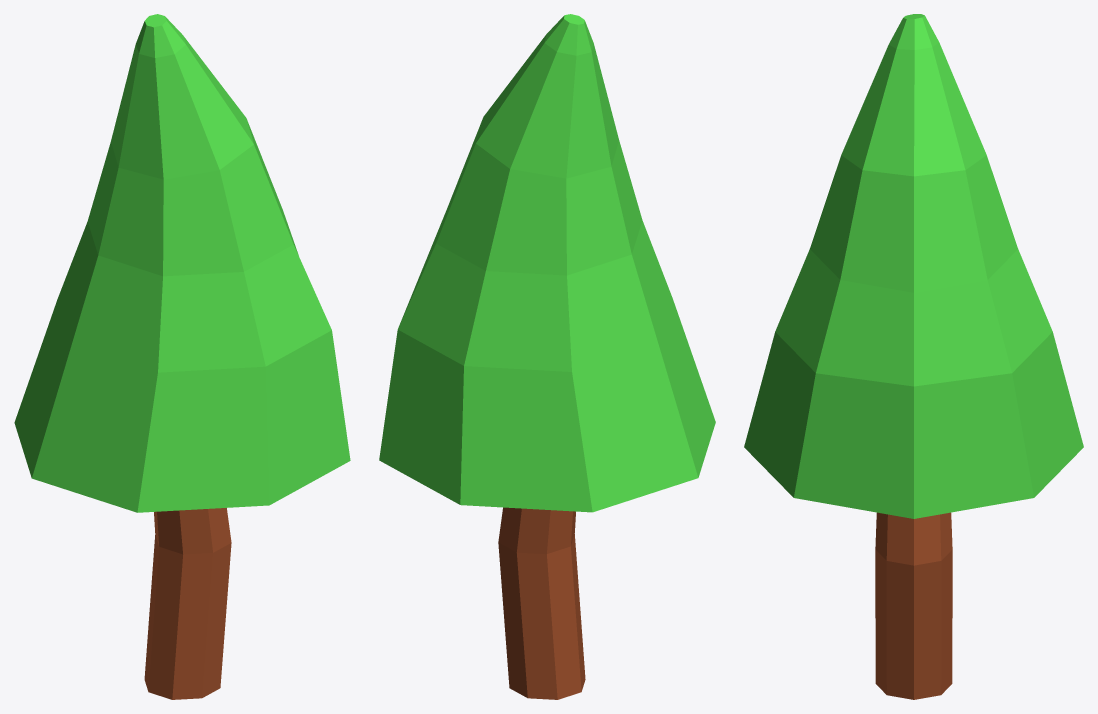
File: Tree004_V2.fbx
3 views of the same model, side by side, from view 1: azimuth 30°, elevation 25°; view 2: azimuth 150°, elevation 25°; view 3: azimuth 270°, elevation 25° (orthographic). The views are drawn at different scales.
Visible parts, largest first — view 1: Tree004; view 2: Tree004; view 3: Tree004.
Boxes of the visible parts, x1=… form: Tree004: x1=14, y1=14, x2=350, y2=699; Tree004: x1=379, y1=14, x2=715, y2=699; Tree004: x1=744, y1=14, x2=1083, y2=699.
Size of the model in its own units: 2.43 by 5.17 by 2.43.
